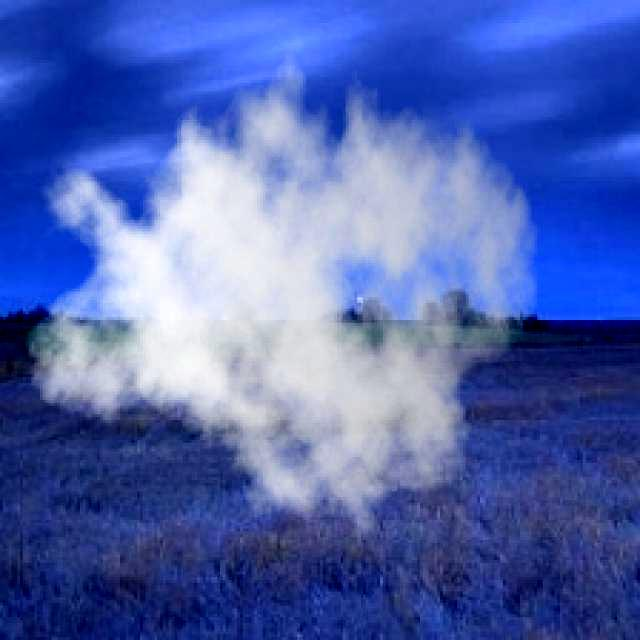no_helmet: (23, 29, 540, 549)
